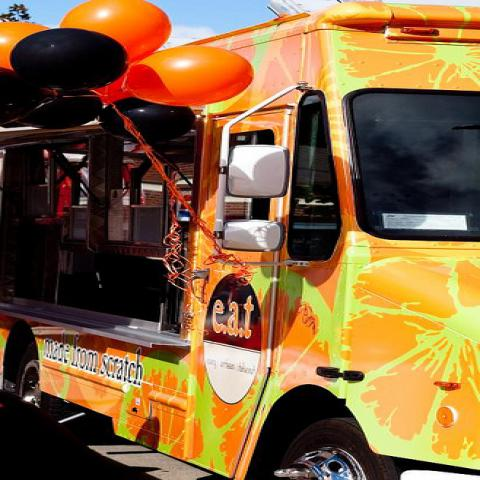truck: (22, 3, 478, 479)
